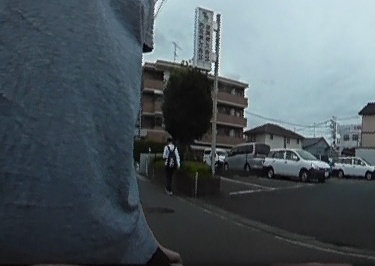person: (162, 137, 181, 194)
